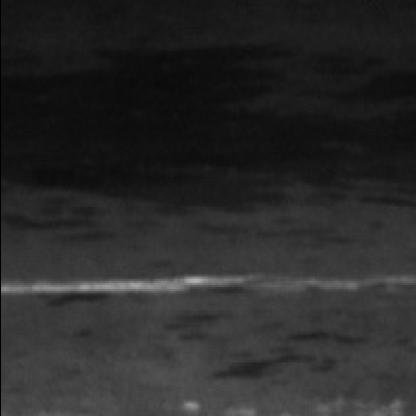inclusion: (8, 54, 416, 218), (208, 324, 368, 387)
scratches: (6, 270, 386, 306)
